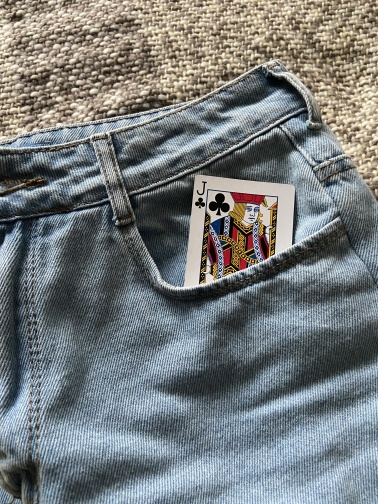jack: (179, 172, 299, 336)
